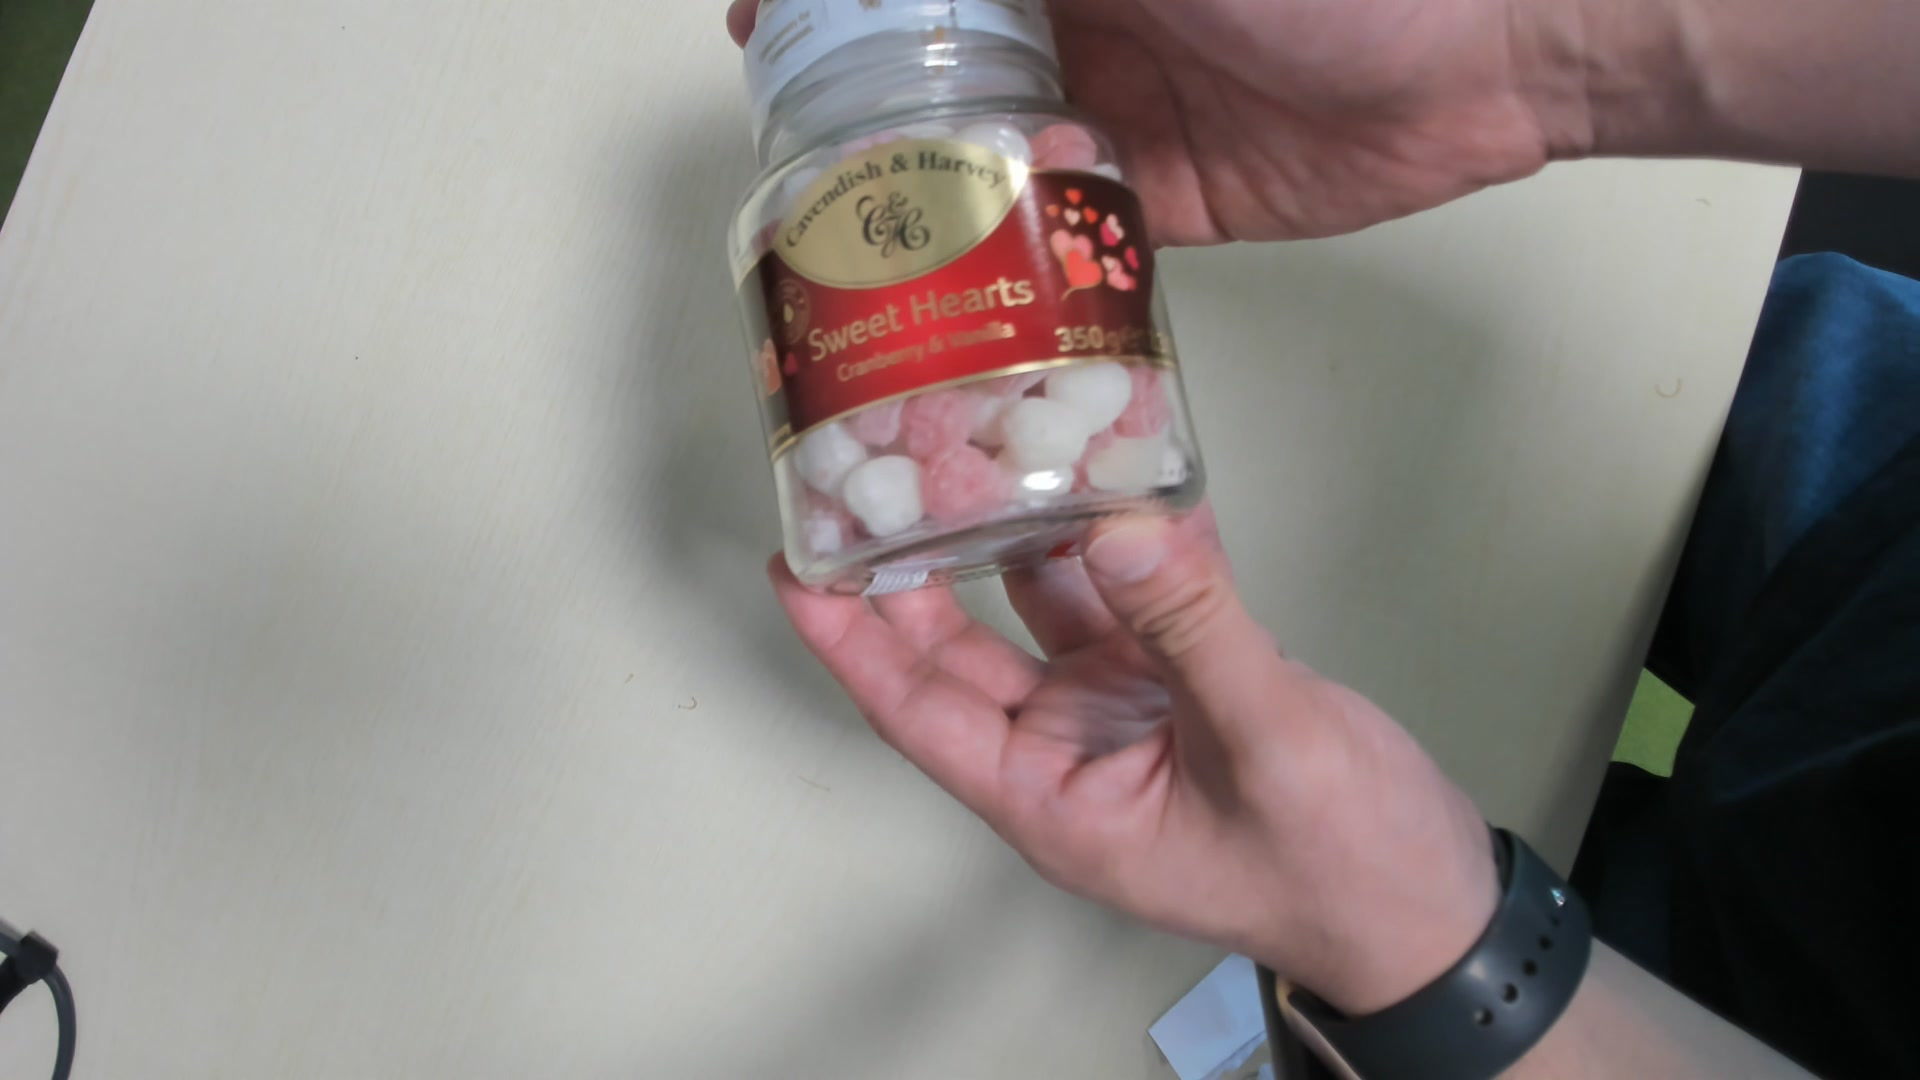SweetsChocolatesOthers_300-399g_NonHalal_Nonhealthy: (723, 3, 1215, 601)
